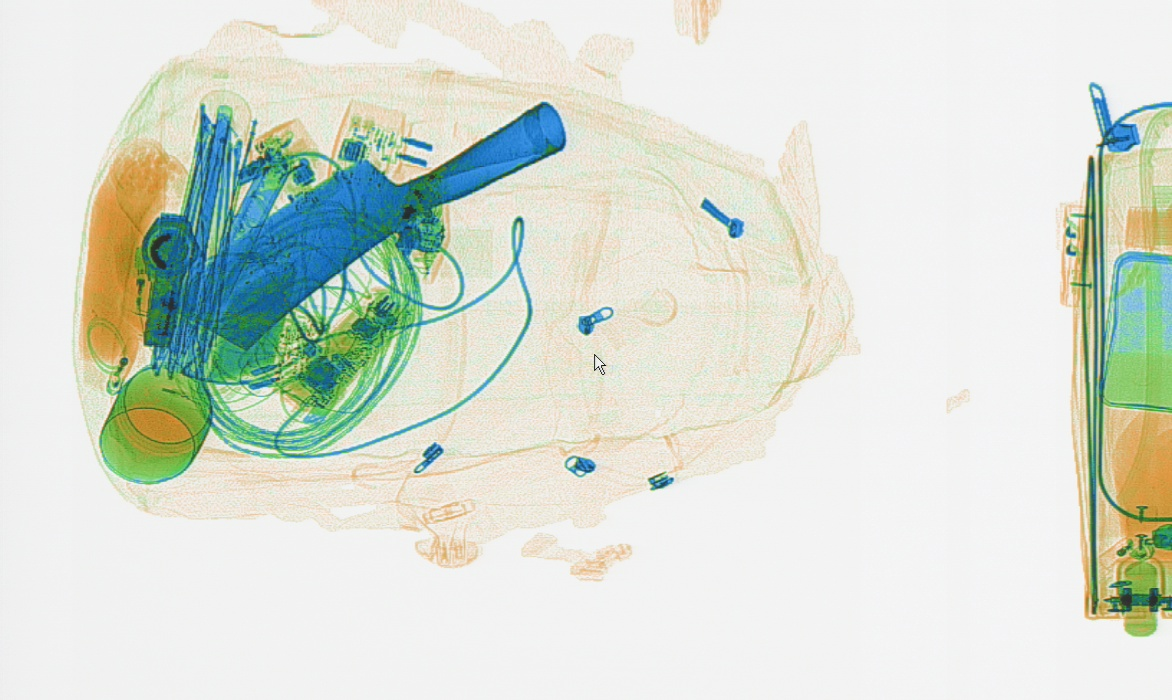knife: (161, 100, 568, 350), (203, 153, 291, 296)
lighter: (105, 296, 146, 394), (125, 248, 160, 347)
